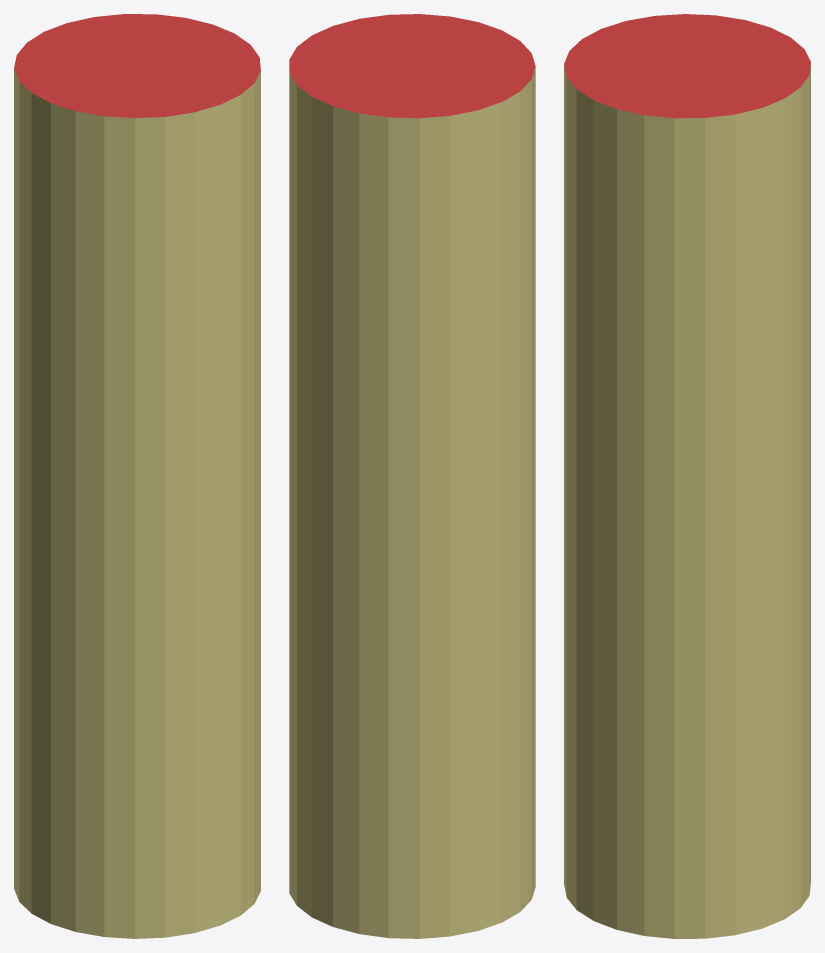
3 renders of one model, left to right at view 1: azimuth 30°, elevation 25°; view 2: azimuth 150°, elevation 25°; view 3: azimuth 270°, elevation 25°, orthographic.
Size of the model in its own units: 2.62 by 2.62 by 9.63.
